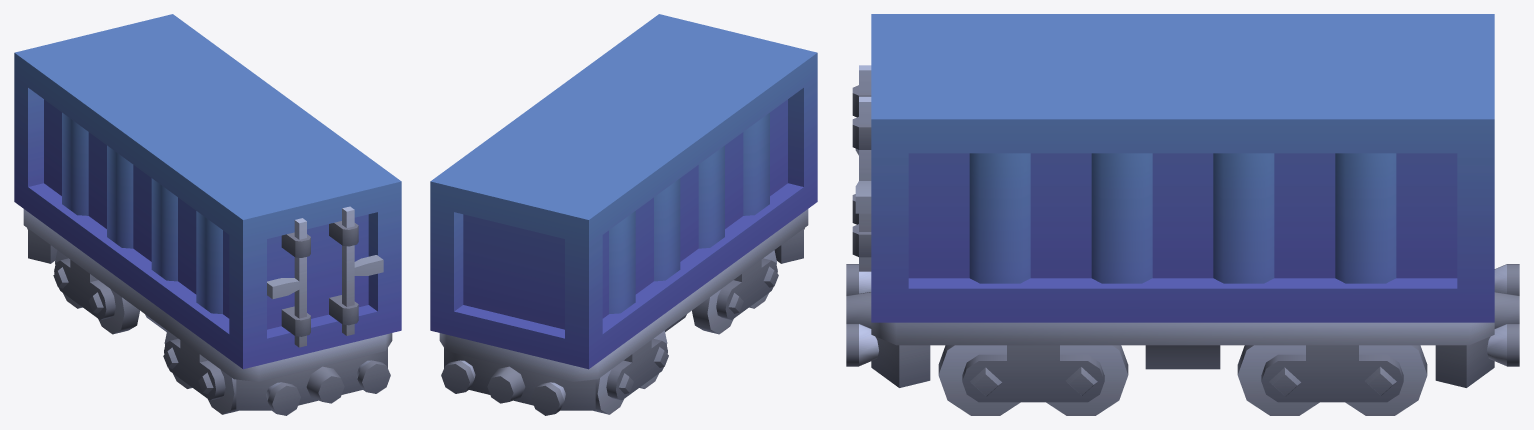
File: kenney-train-train-carriage-container-blue.glb
3 views of the same model, side by side, from view 1: azimuth 30°, elevation 25°; view 2: azimuth 150°, elevation 25°; view 3: azimuth 270°, elevation 25° (orthographic). The views are drawn at different scales.
Visible parts, largest first — view 1: train-carriage-container-blue; view 2: train-carriage-container-blue; view 3: train-carriage-container-blue.
Boxes of the visible parts, x1,y1,x2,y2 form: train-carriage-container-blue: (14, 14, 401, 415); train-carriage-container-blue: (430, 14, 817, 415); train-carriage-container-blue: (846, 14, 1519, 415).
Bounding box in the file's own units: 1 × 1.36 × 2.7.
1 material, 1 textured.
